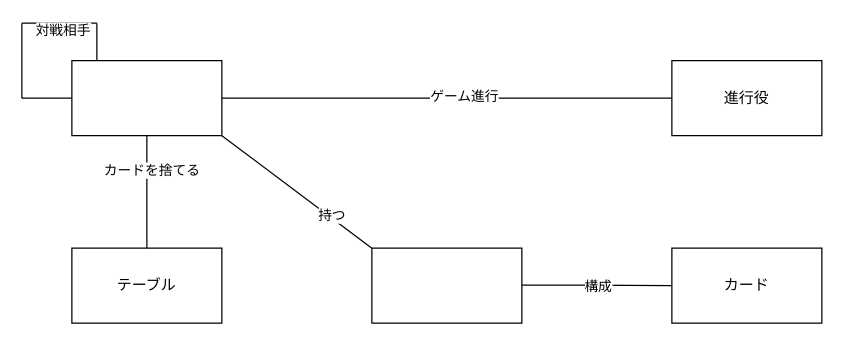
The diagram is 844 pixels wide and 345 high, and some of its shapes have lost their labels. The shapes that lost their labels are listed below. From the top down, each one's centre as x and y in pixels, then its label:
the point at 146,97: プレイヤー
the point at 446,285: 手札
